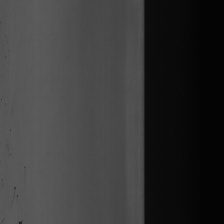inclusion: (4, 127, 13, 156), (11, 185, 21, 201)
